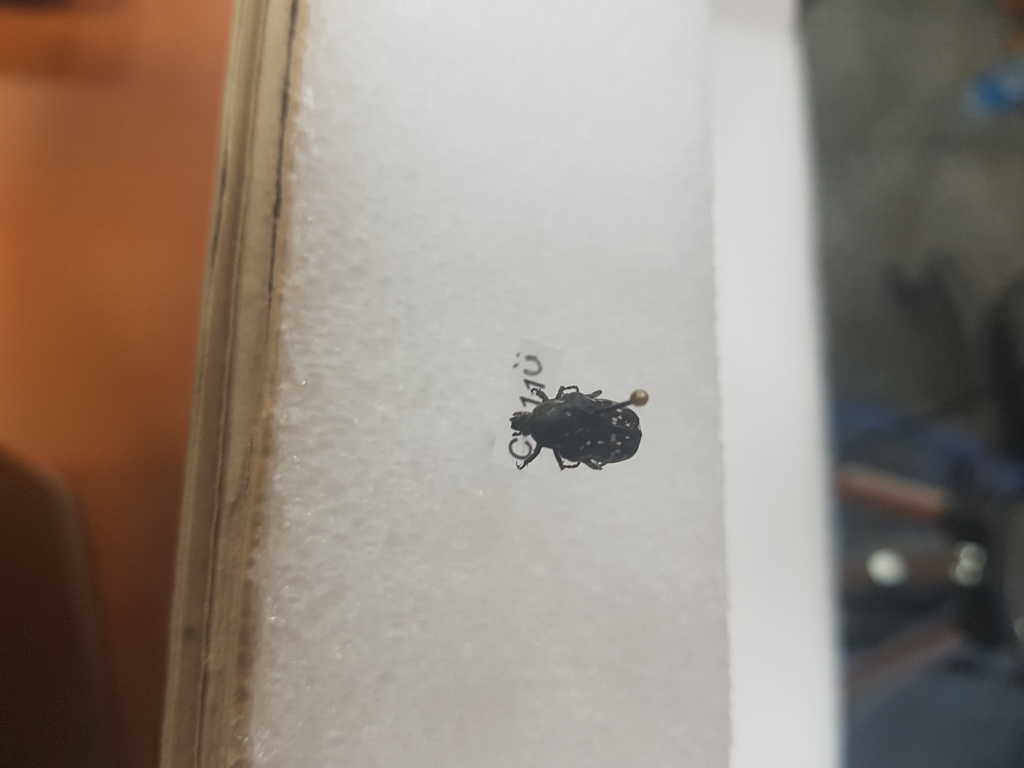Oxythyrea_albopicta: (507, 385, 647, 480)
